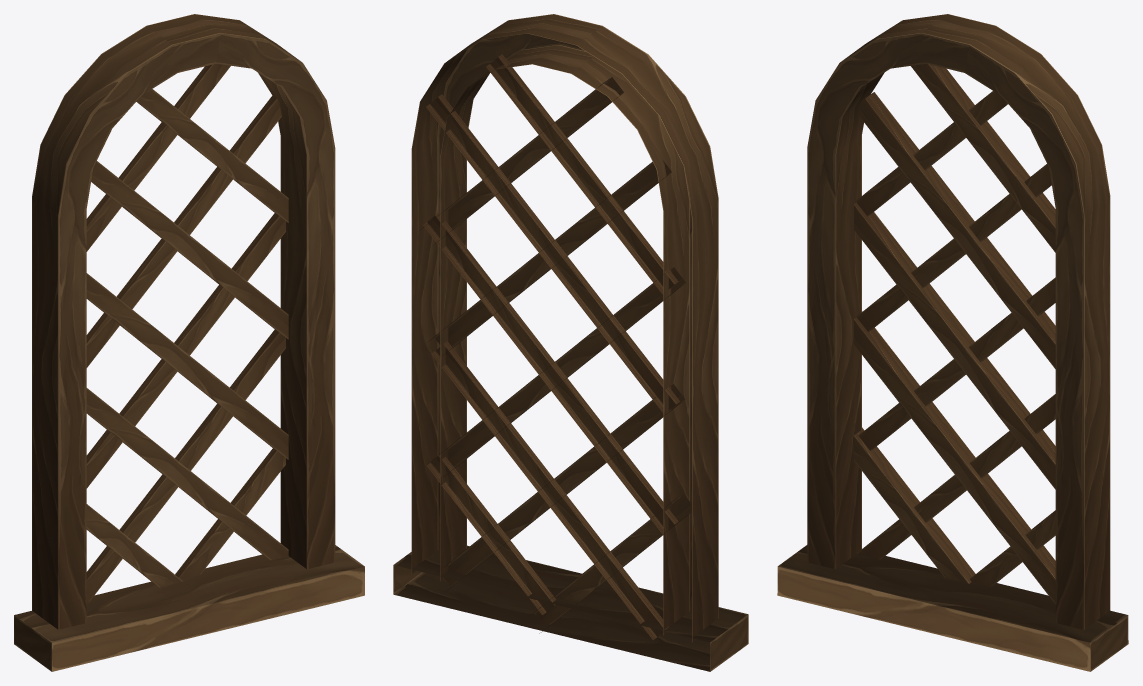
File: Window_2_3.FBX
The picture shows the model from 3 angles, left to right: view 1: azimuth 30°, elevation 25°; view 2: azimuth 150°, elevation 25°; view 3: azimuth 330°, elevation 25°; orthographic projection.
Visible parts, largest first — view 1: Window_2_3; view 2: Window_2_3; view 3: Window_2_3.
Part boxes in pixels (x1,y1,x2,y2): Window_2_3: (14,14,364,671); Window_2_3: (393,14,748,671); Window_2_3: (777,14,1128,671).
Bounding box in the file's own units: 996 × 1792 × 216.
